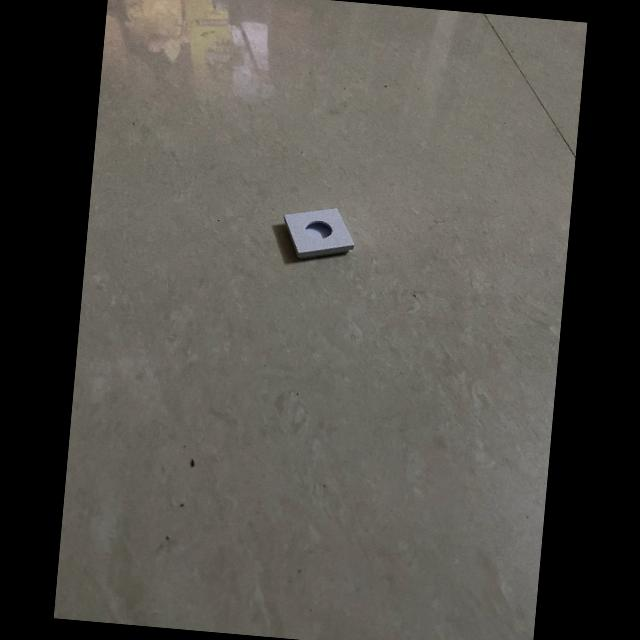RASPBERY PI CAM ENCLOSURE: (280, 203, 358, 264)
